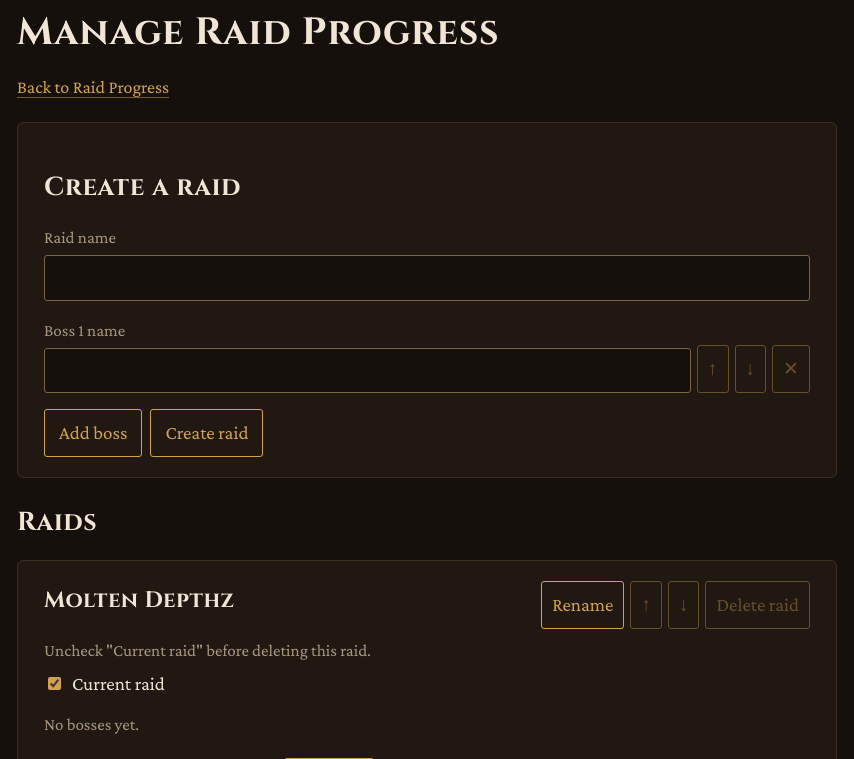
Test: OfficerRaidProgress › should show the new tier name after an officer renames a tier and the tiers refetch
# given an officer who opened the rename field and typed a corrected name
Step 1. Click the button with aria-label "Rename Molten Depthz" → click(583, 605), box [541,581,624,629]
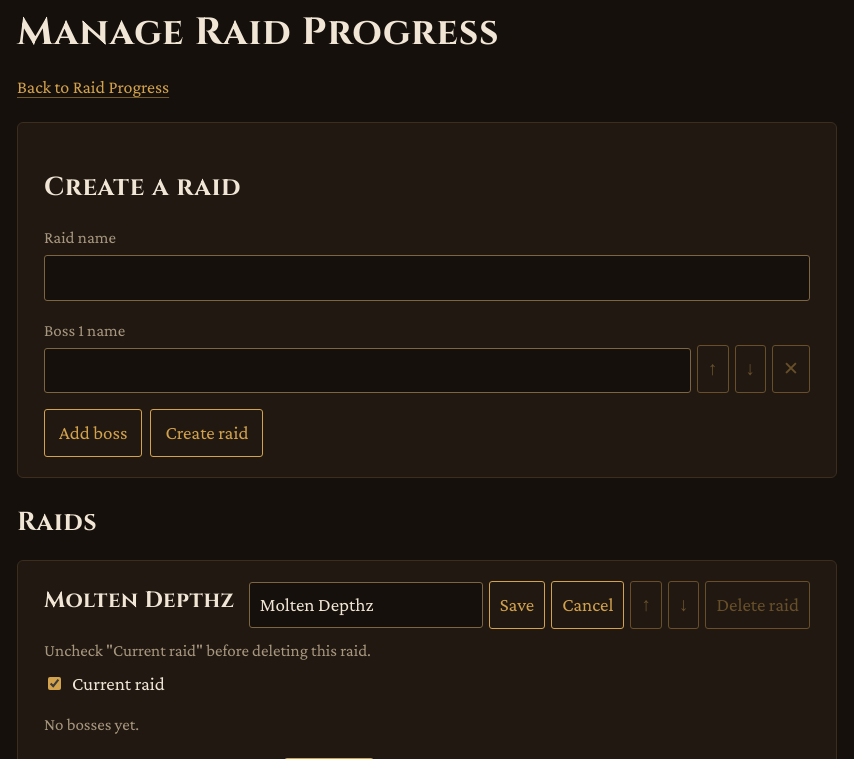
Step 2. Replace the text in the field named "New name for Molten Depthz" with "Molten Depths" → (366, 605), box [249,582,483,628]
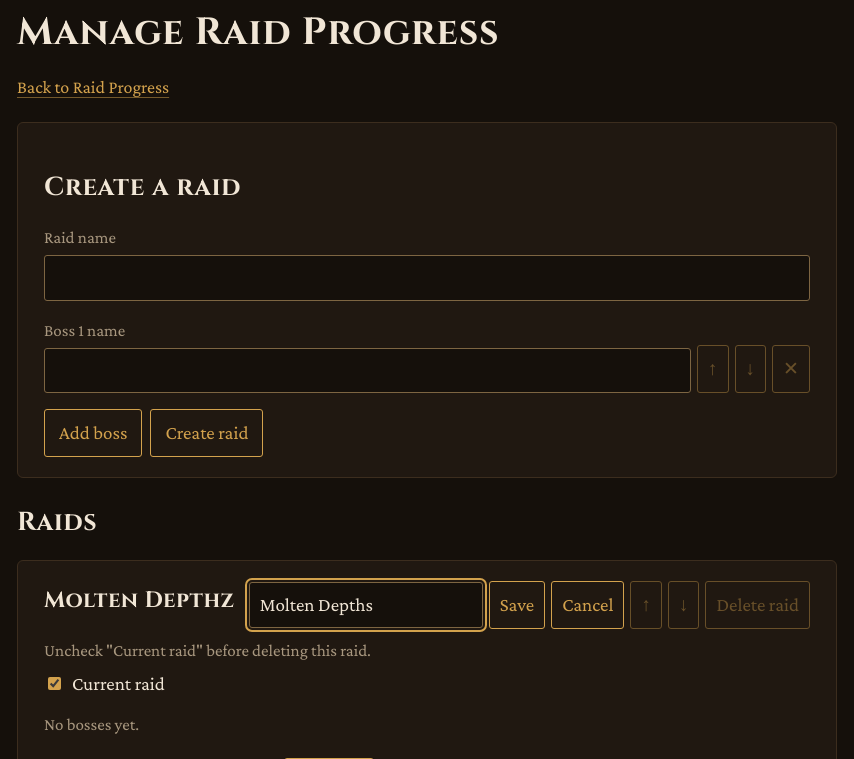
# when I save the name
Step 3. Click the button with aria-label "Save name for Molten Depthz" → click(517, 605), box [489,581,545,629]
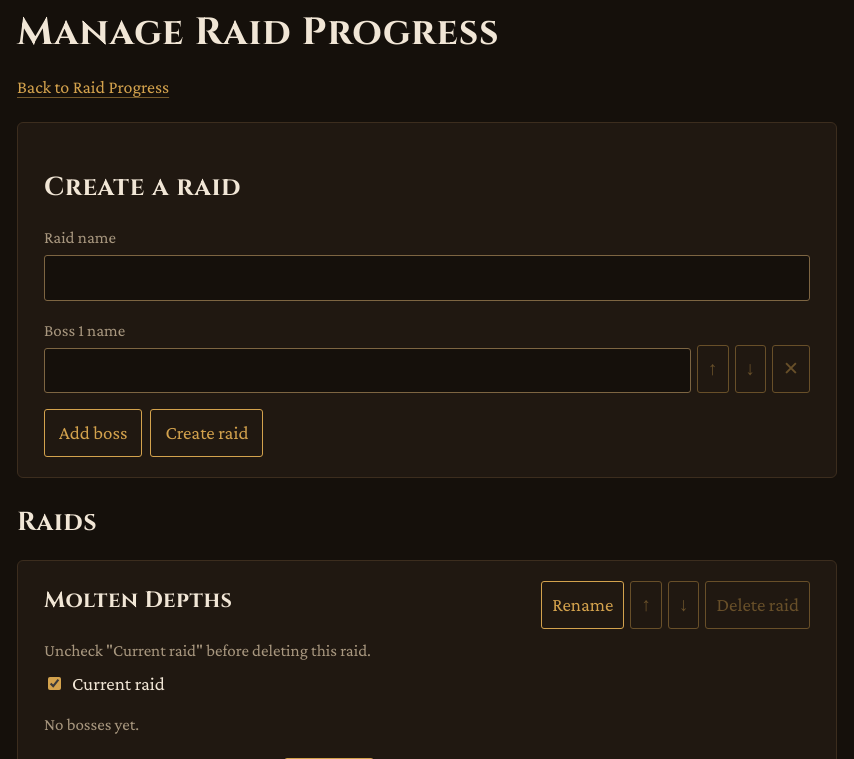
Check: the heading "Molten Depths" is shown, box [44,583,232,618]
